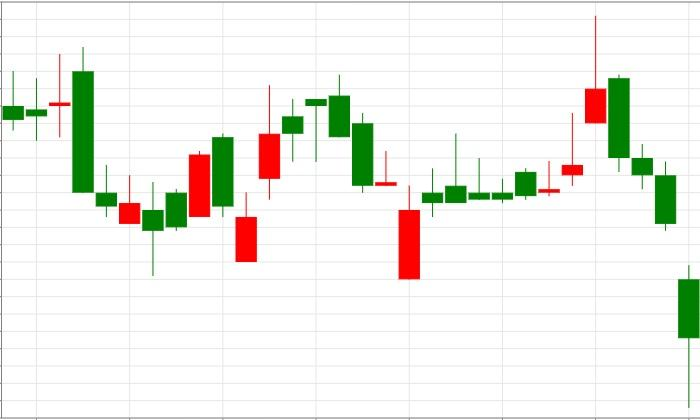shooting_star_fall: (398, 16, 607, 280)
three_black_crows_fall: (398, 16, 677, 280)
